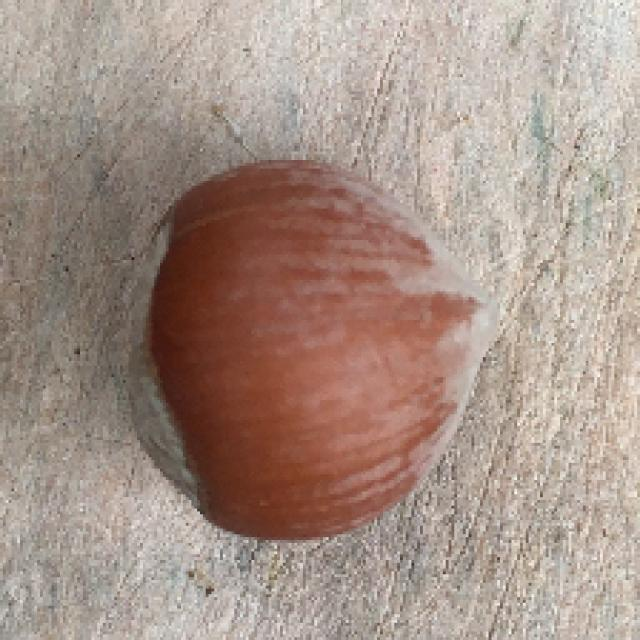qualityHazelnut: (114, 158, 486, 540)
